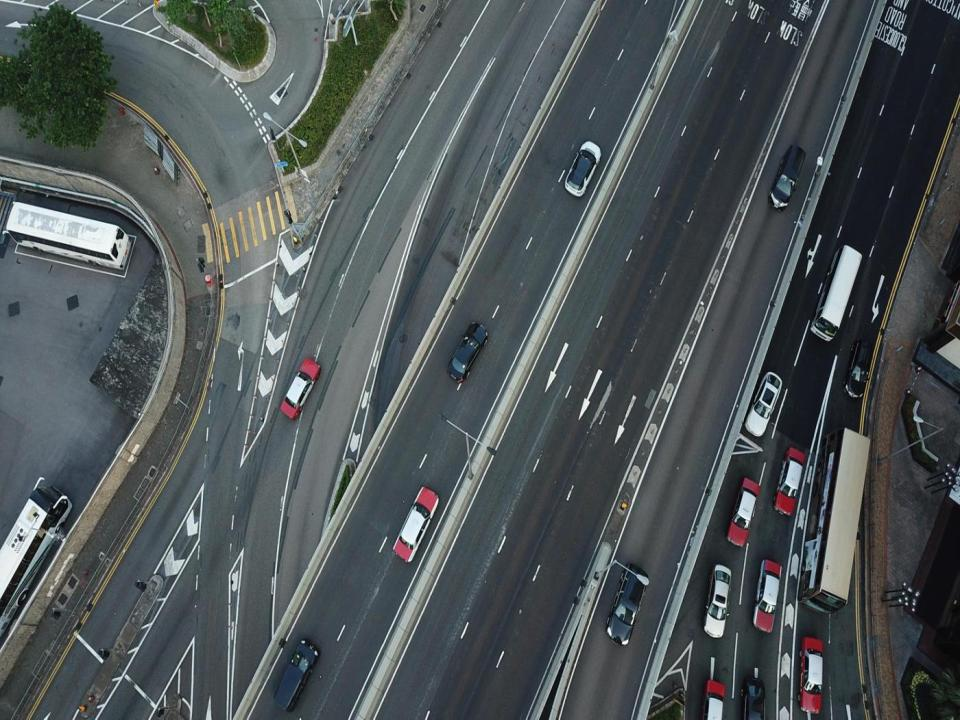bus: (798, 428, 875, 618), (0, 476, 67, 662), (9, 202, 134, 272), (807, 241, 862, 344)
car: (393, 487, 442, 564), (273, 639, 325, 709), (605, 564, 648, 647), (743, 372, 784, 443), (279, 355, 322, 422), (750, 551, 783, 634), (727, 475, 762, 547), (704, 563, 733, 640), (449, 322, 486, 382), (841, 338, 876, 399), (564, 140, 602, 196), (773, 448, 801, 518), (801, 635, 823, 715), (740, 675, 765, 719), (702, 677, 722, 719)
van: (770, 141, 804, 210)
